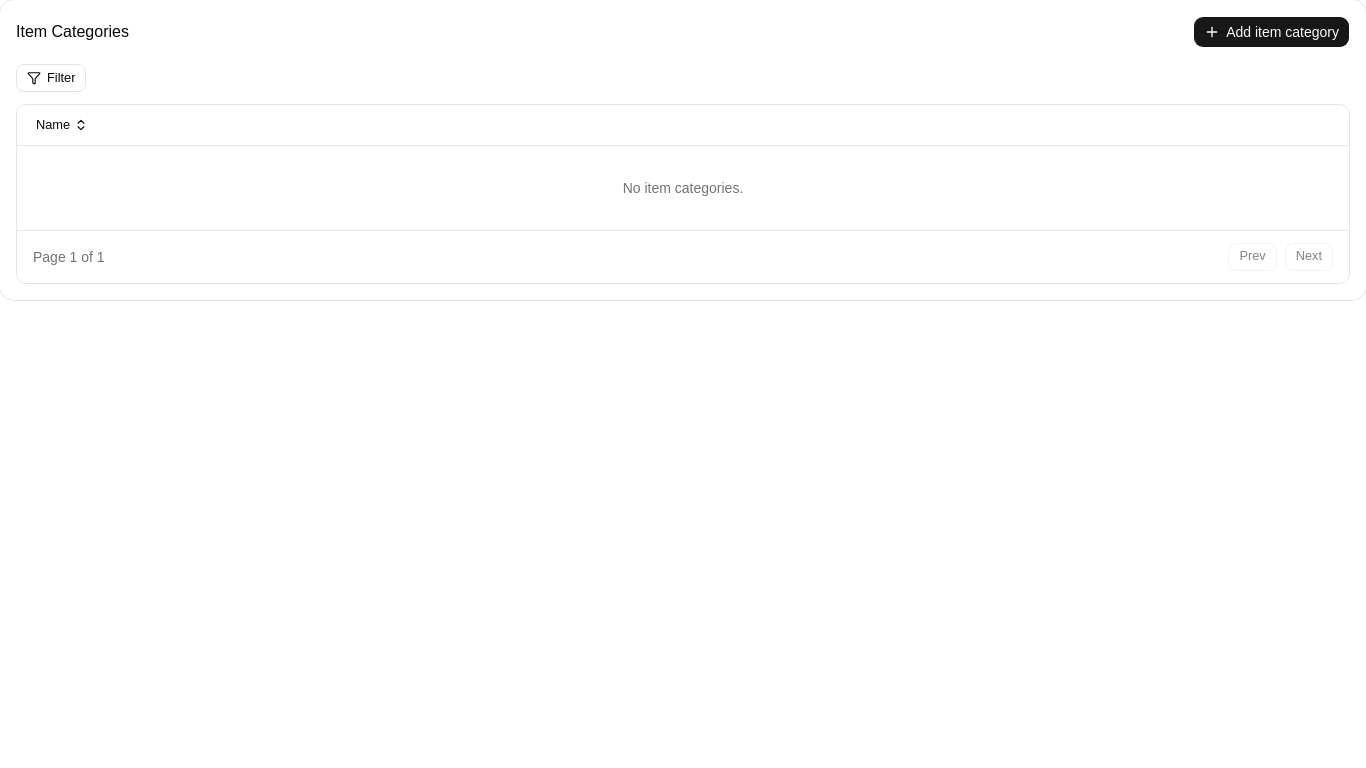
Test: ItemCategoriesTable › creates an item category and refreshes the table
Expected: the text "No item categories." is shown, left=17, top=145, right=1349, bottom=230
Step 1. Click the button "Add item category" → {"x": 1272, "y": 32}, box left=1193, top=16, right=1350, bottom=48
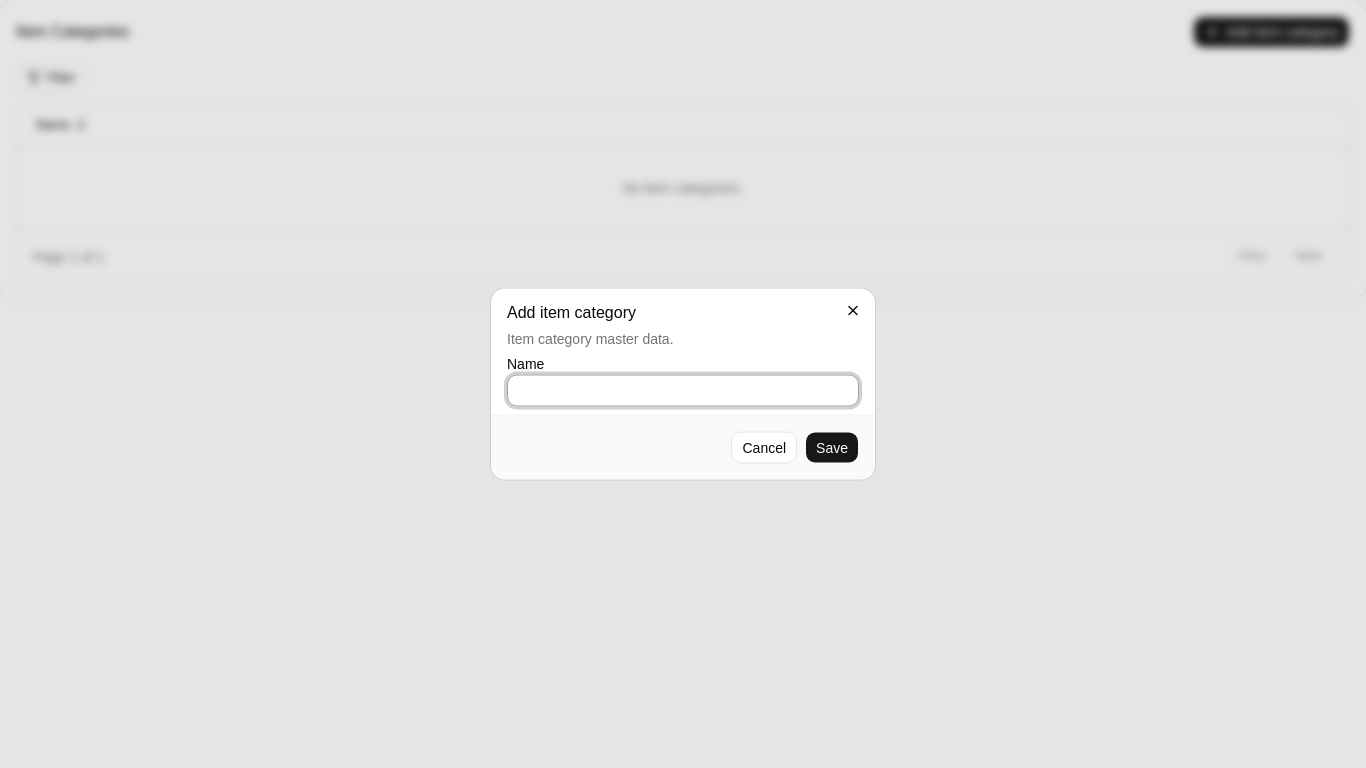
Step 2. Type "Consumables" into the field labelled "Name" → {"x": 683, "y": 390}, box left=507, top=374, right=859, bottom=406
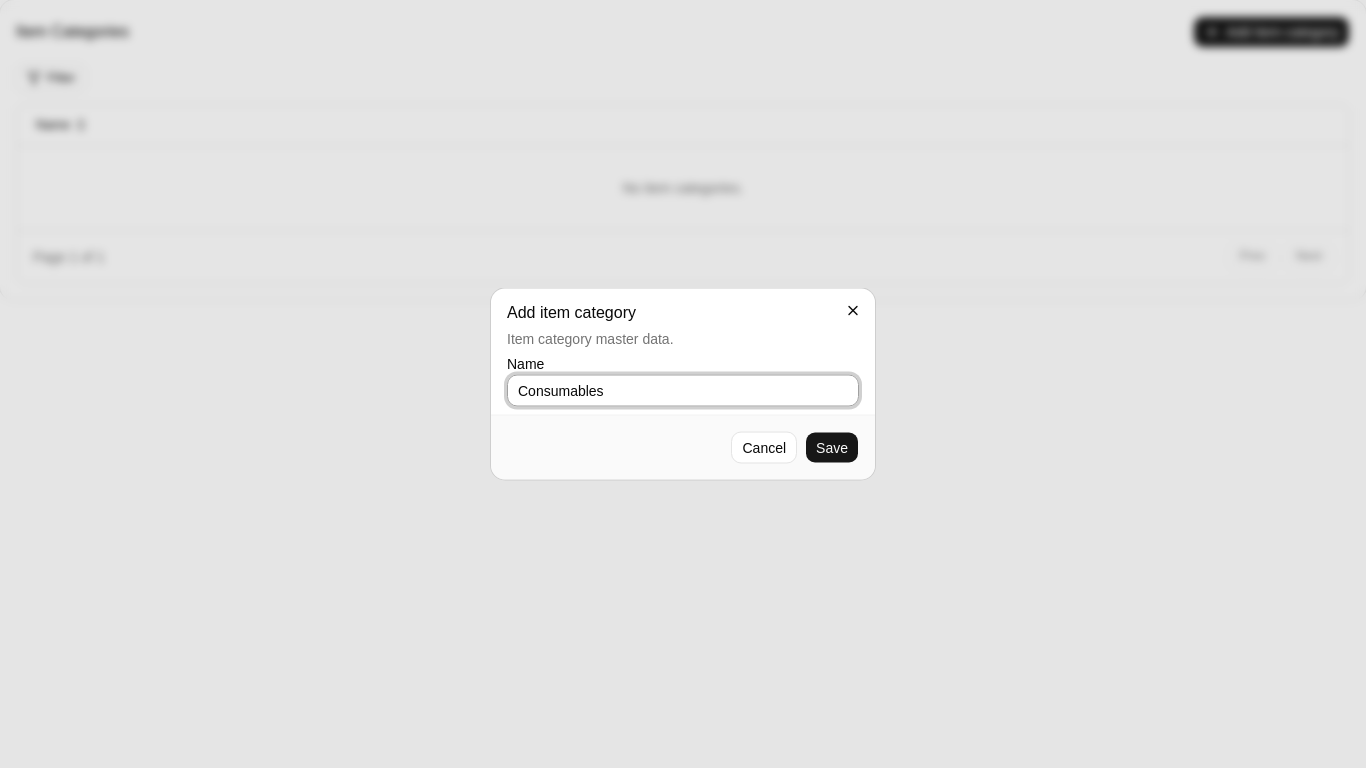
Step 3. Click the button "Save" → {"x": 832, "y": 448}, box left=805, top=432, right=859, bottom=464
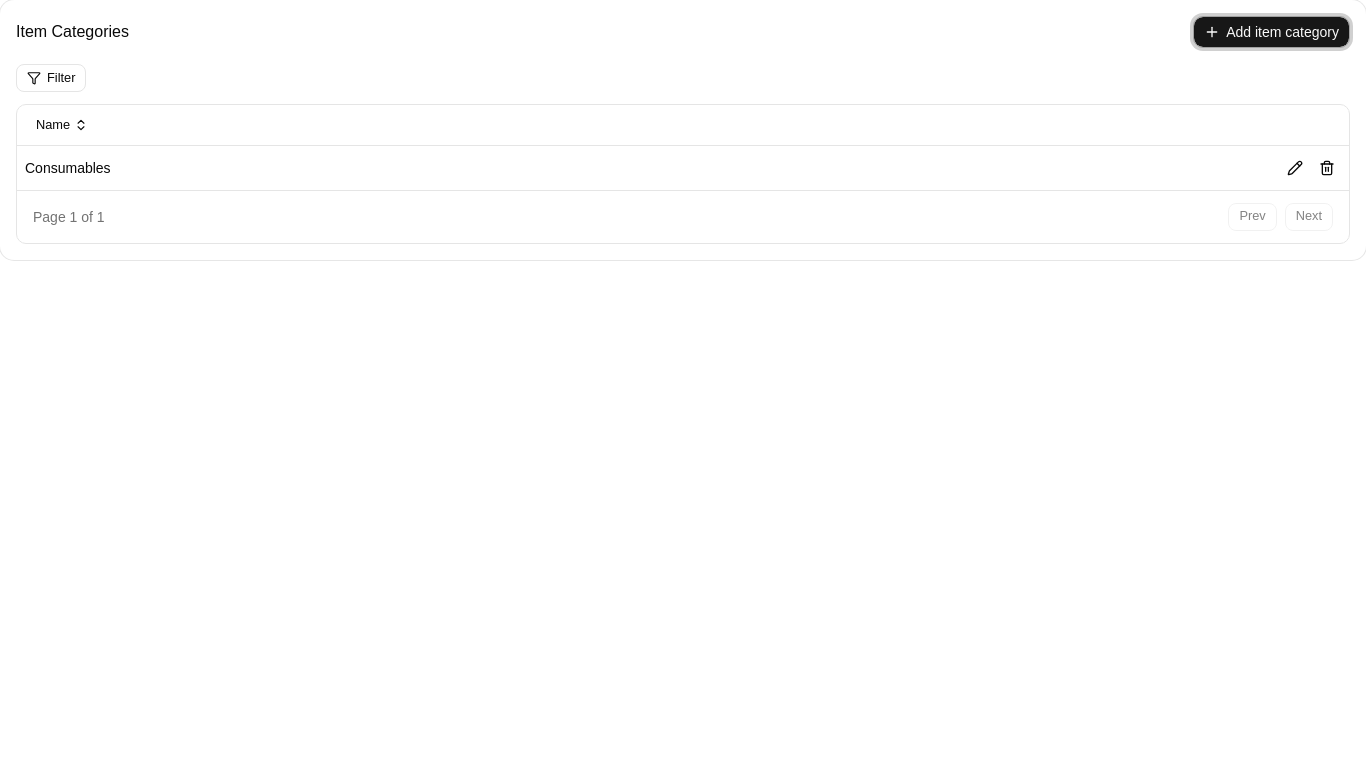
Now the text "Consumables" is shown, box left=17, top=145, right=779, bottom=190
